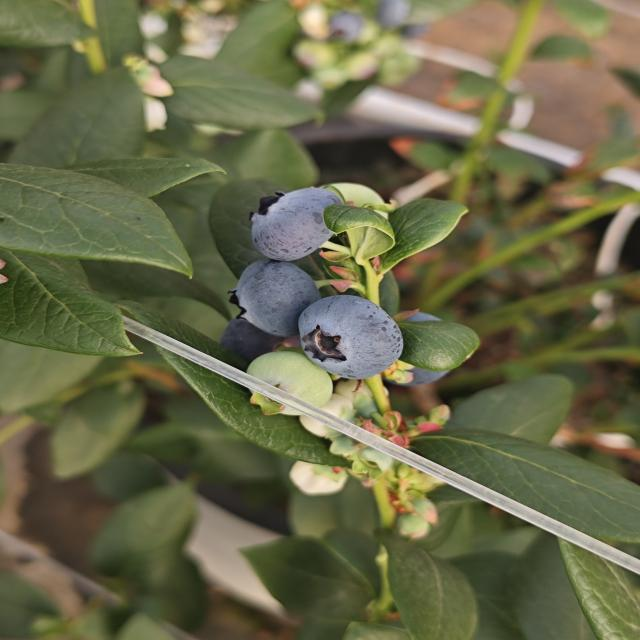ripe: (244, 177, 359, 266), (296, 291, 405, 382), (383, 308, 473, 388), (231, 255, 319, 334), (215, 314, 287, 361)
